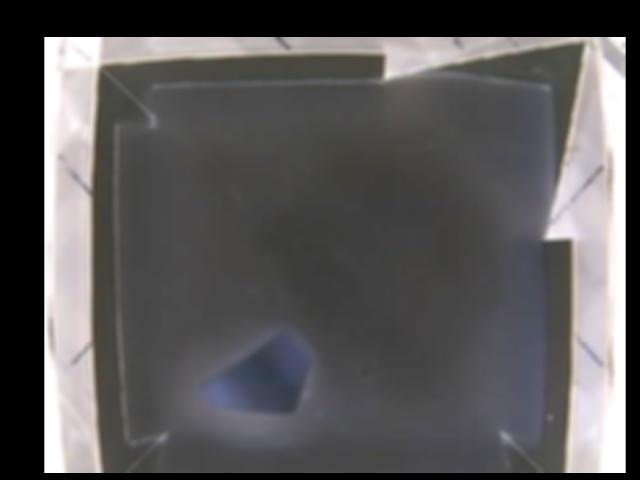Mooli: (200, 330, 314, 414)
